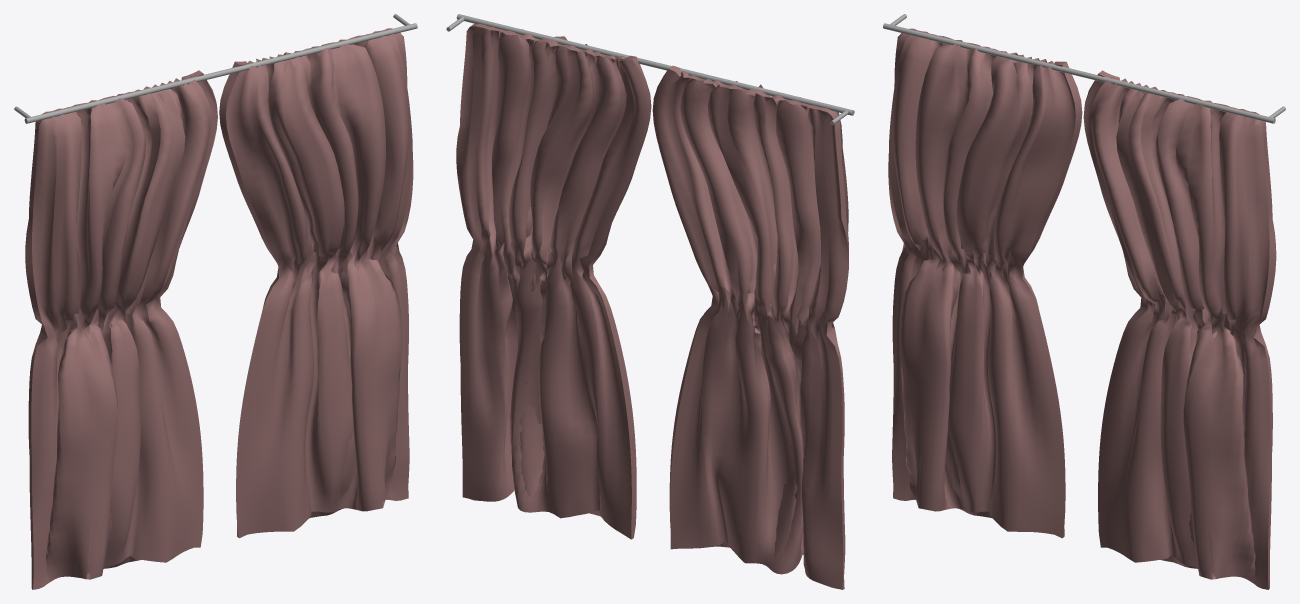
Rendered from Curtains.fbx.
3 renders of one model, left to right at view 1: azimuth 30°, elevation 25°; view 2: azimuth 150°, elevation 25°; view 3: azimuth 330°, elevation 25°, orthographic.
Parts seen in each view (by area): view 1: Curtain_Left, Curtain_Right, Curtain_Rail4; view 2: Curtain_Left, Curtain_Right, Curtain_Rail4; view 3: Curtain_Left, Curtain_Right, Curtain_Rail4.
Part boxes in pixels (x1=…): Curtain_Left: x1=25, y1=70, x2=217, y2=589; Curtain_Right: x1=219, y1=28, x2=413, y2=538; Curtain_Rail4: x1=14, y1=14, x2=417, y2=123; Curtain_Left: x1=652, y1=65, x2=848, y2=589; Curtain_Right: x1=456, y1=23, x2=651, y2=539; Curtain_Rail4: x1=446, y1=14, x2=854, y2=125; Curtain_Left: x1=888, y1=28, x2=1082, y2=538; Curtain_Right: x1=1083, y1=70, x2=1276, y2=589; Curtain_Rail4: x1=883, y1=14, x2=1285, y2=123.
Size of the model in its own units: 420 by 490 by 62.41.
